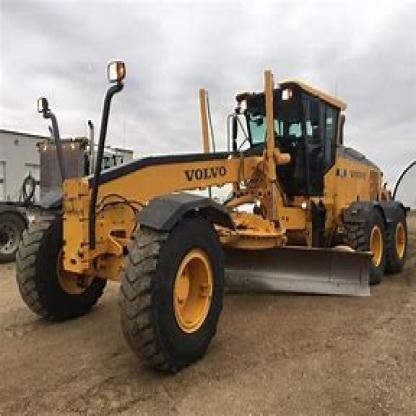bull_dozer/loader/grader: (16, 41, 414, 370)
